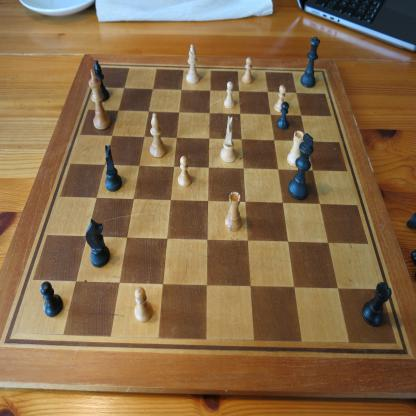black-bishop: (93, 60, 110, 103)
black-king: (288, 133, 314, 201)
black-knight: (85, 218, 111, 269), (104, 144, 122, 192)
black-pawn: (40, 281, 64, 318), (275, 100, 290, 132)
black-queen: (300, 36, 320, 89)
black-rook: (361, 281, 392, 328)
white-bishop: (150, 112, 167, 159), (185, 44, 200, 85)
white-king: (88, 68, 112, 132)
white-knight: (220, 115, 237, 164)
white-pawn: (134, 286, 154, 324), (177, 155, 193, 188), (223, 81, 235, 109), (274, 85, 286, 113), (242, 57, 254, 84)
white-rook: (286, 130, 305, 168), (225, 191, 242, 232)
